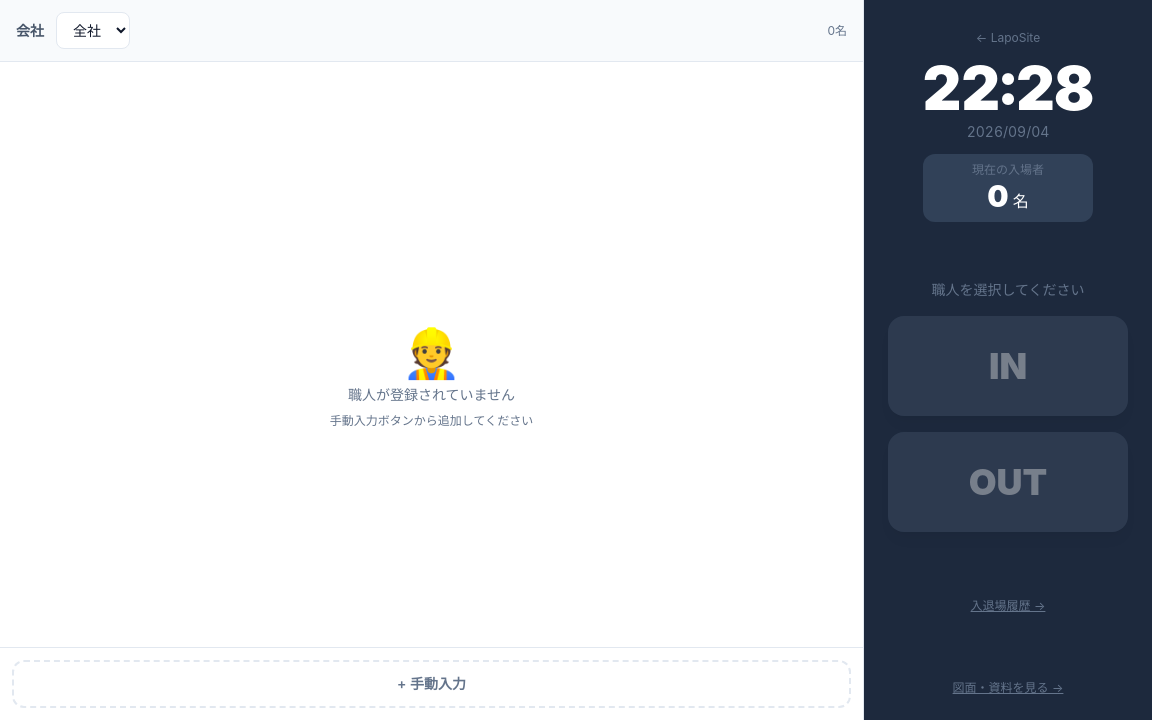
Test: SiteEntryPage › 図面をタップすると別タブで開くリンクになっている
Click the button "図面・資料を見る →" at (1008, 688), box [953,680,1063,696]
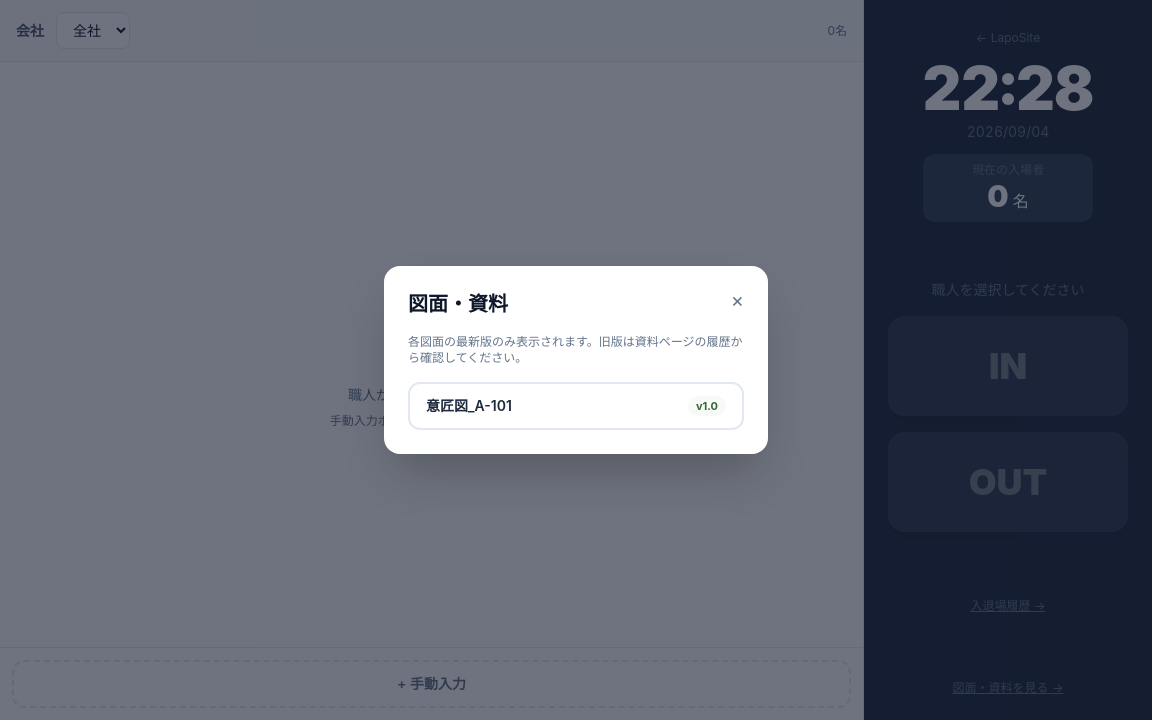
Expected: the link "意匠図_A-101 v1.0" is shown, [408,382,744,430]
